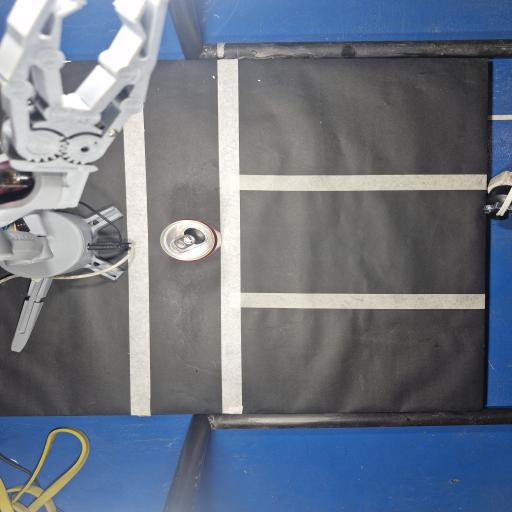lata: (161, 219, 220, 261)
